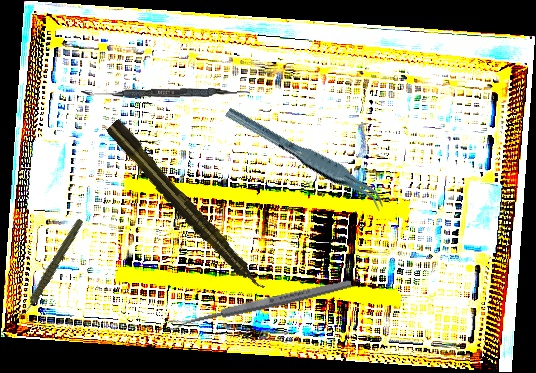Handpiece: (104, 117, 269, 298), (0, 217, 101, 318)
Spatula Surgical: (80, 85, 251, 101)
Surgical Spoon: (167, 277, 353, 332)
Tissue Forceps: (224, 89, 389, 226)
